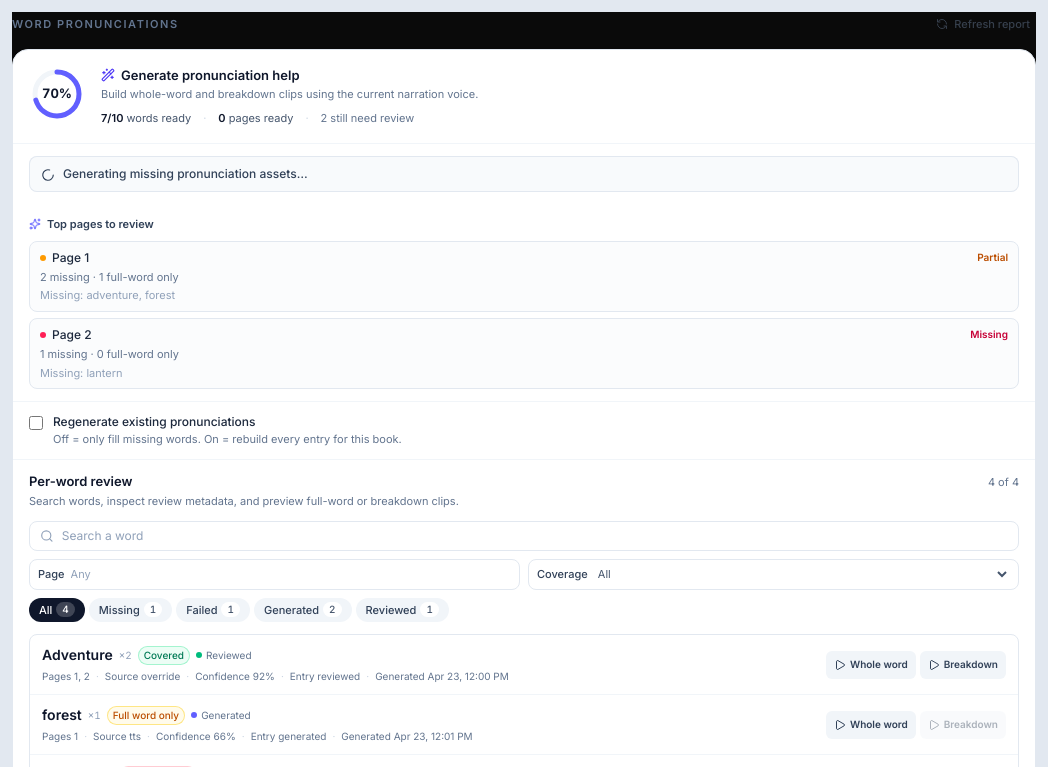
Test: PronunciationPanel › shows a pending regenerate state while the request is in flight
Click the checkbox at (36, 423), box [29, 416, 43, 430]
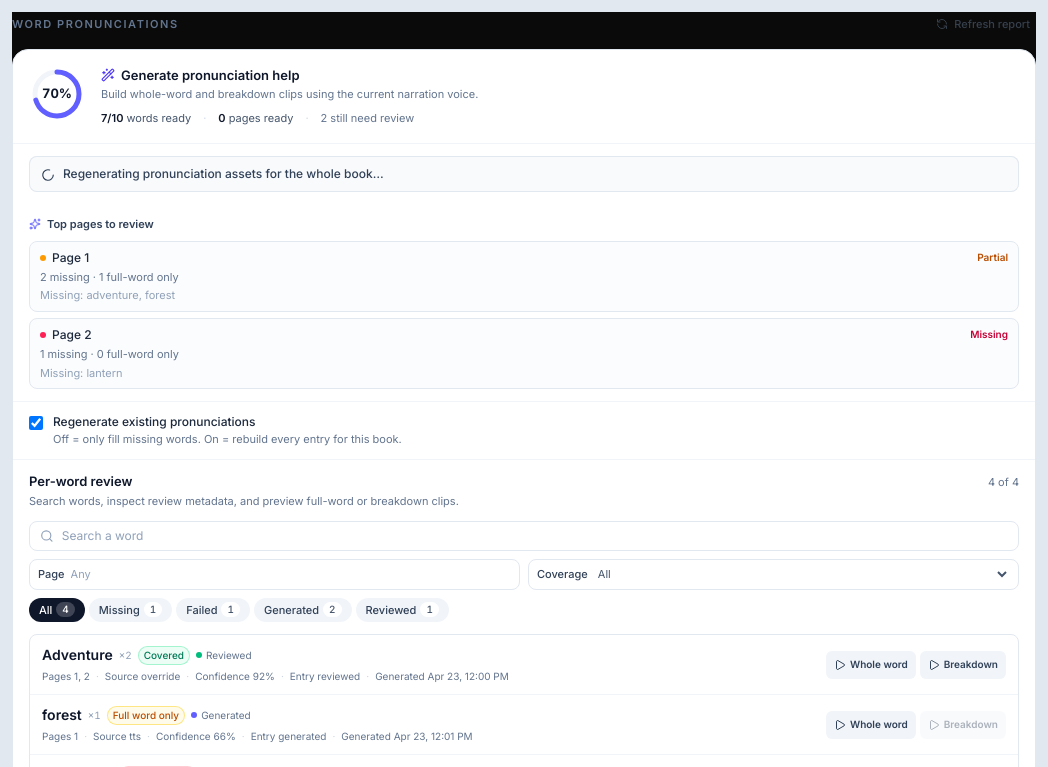
Expected: the button "Refresh report" is disabled, [930, 12, 1036, 36]
Result: the text "Regenerating pronunciation assets for the whole book…" is shown at [63, 166, 384, 181]
